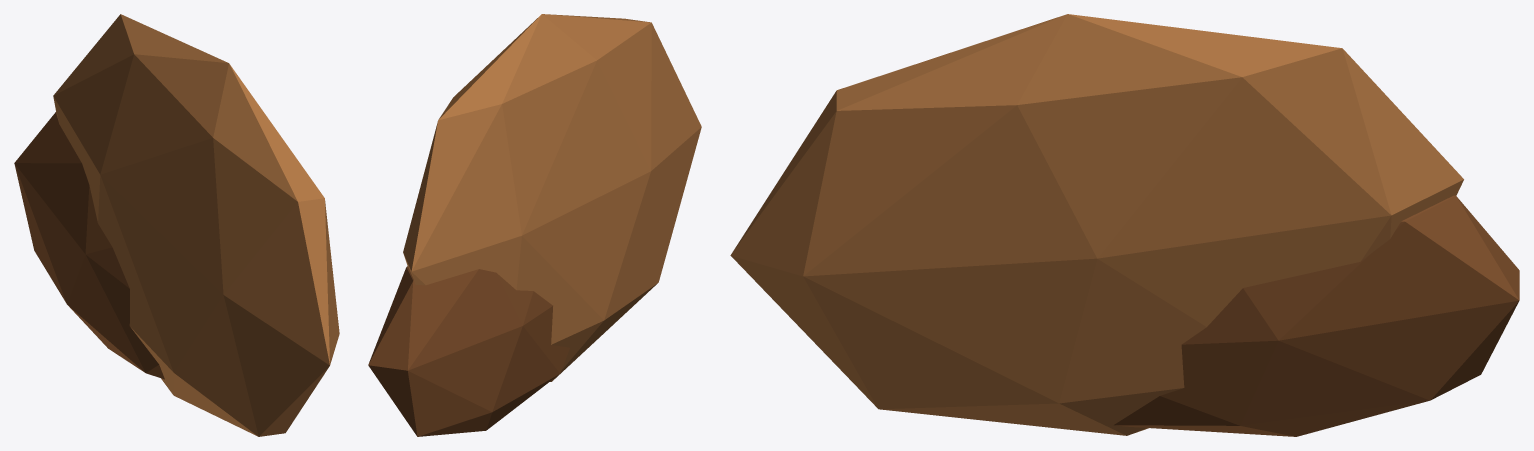
Rendered from chicken_1_wing_r.glb.
The picture shows the model from 3 angles, left to right: view 1: azimuth 30°, elevation 25°; view 2: azimuth 150°, elevation 25°; view 3: azimuth 270°, elevation 25°; orthographic projection. The views are drawn at different scales.
Parts seen in each view (by area): view 1: chicken_1_wing_r; view 2: chicken_1_wing_r; view 3: chicken_1_wing_r.
Boxes of the visible parts, x1,y1,x2,y2 form: chicken_1_wing_r: [14, 14, 339, 436]; chicken_1_wing_r: [368, 14, 701, 436]; chicken_1_wing_r: [730, 14, 1519, 436].
Bounding box in the file's own units: 0.0408 × 0.1485 × 0.2394.
